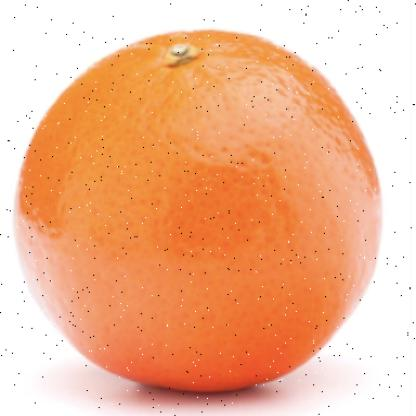fresh: (18, 30, 380, 397)
